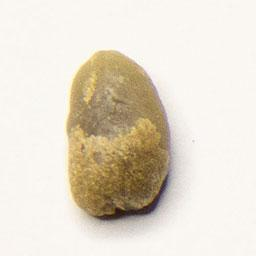longberry: (61, 46, 174, 220)
